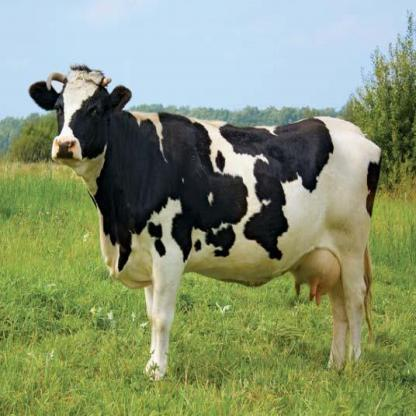cow: (28, 69, 381, 378)
